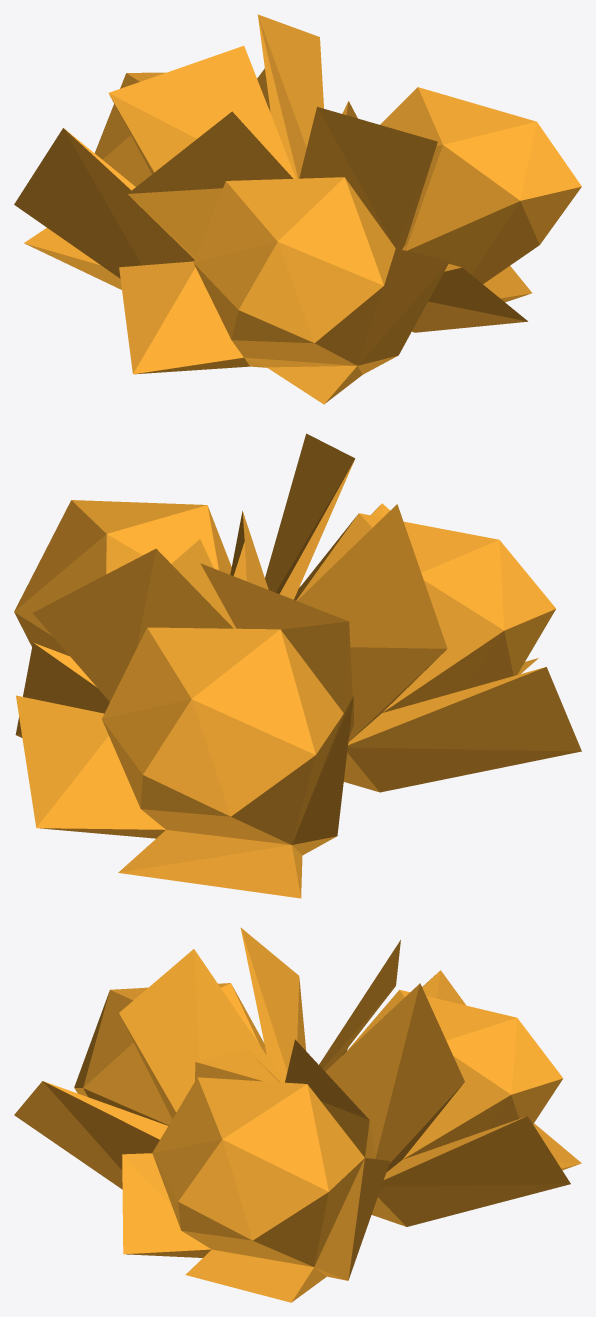
Rendered from SM_Hazelnut_Bunch.fbx.
3 views of the same model, one above another, from view 1: azimuth 30°, elevation 25°; view 2: azimuth 150°, elevation 25°; view 3: azimuth 270°, elevation 25° (orthographic). The views are drawn at different scales.
Visible parts, largest first — view 1: hazelnut-bunch; view 2: hazelnut-bunch; view 3: hazelnut-bunch.
Boxes of the visible parts, left/top/right/bottom form: hazelnut-bunch: left=14, top=14, right=581, bottom=404; hazelnut-bunch: left=14, top=433, right=581, bottom=898; hazelnut-bunch: left=14, top=927, right=581, bottom=1302.
Size of the model in its own units: 0.1127 by 0.0635 by 0.1272.
